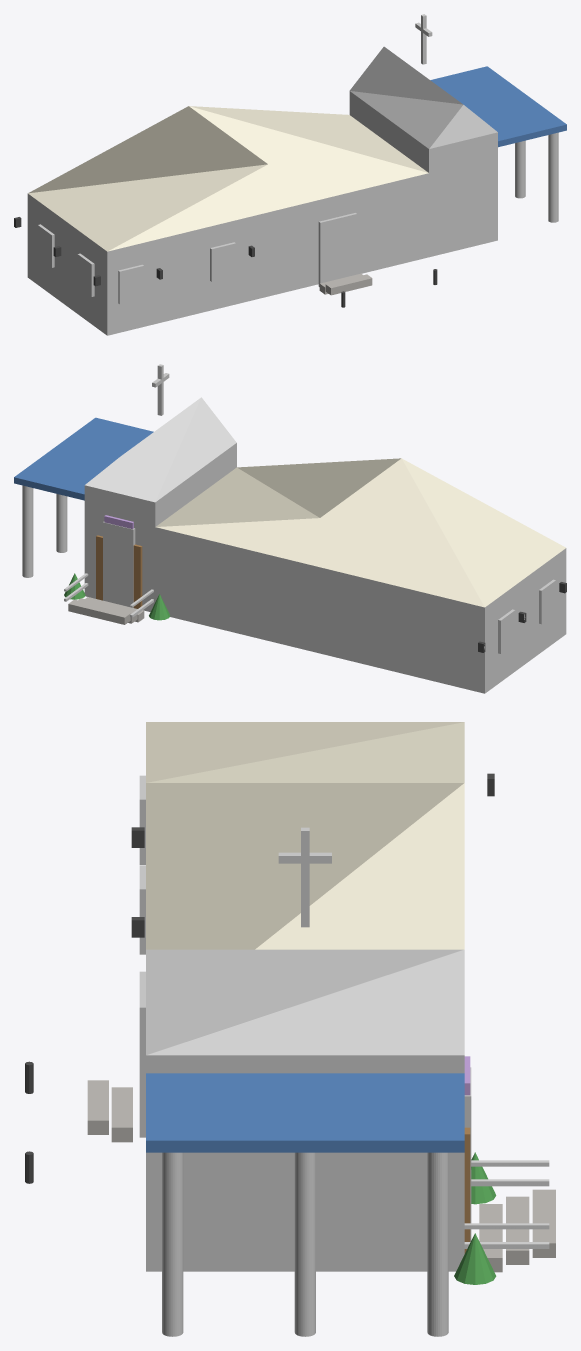
The model's file is Auditorium.glb.
The picture shows the model from 3 angles, top to bottom: view 1: azimuth 30°, elevation 25°; view 2: azimuth 150°, elevation 25°; view 3: azimuth 270°, elevation 25°; orthographic projection. The views are drawn at different scales.
Parts seen in each view (by area): view 1: Hall_Roof, Hall_Body, Entrance_Body, Entrance_Roof, Portico_Roof, SideDoor_Frame, Column_-2.5, WinFrame_F0, WinFrame_F1, WinFrame_L1, Column_0, WinFrame_L2 (+1 smaller); view 2: Hall_Roof, Hall_Body, Entrance_Roof, Entrance_Body, Portico_Roof, DoorFrame, Column_2.5, Step_Main2, Column_0, WinFrame_L2, WinFrame_L1, MainDoor_L (+1 smaller); view 3: Hall_Roof, Entrance_Body, Entrance_Roof, Portico_Roof, Column_2.5, Column_-2.5, Column_0, Step_Main2, Step_Main1, Pot_1, Step_Side0, Step_Side1 (+4 smaller).
Part boxes in pixels (x1,y1,x2,y2): Hall_Roof: [28, 106, 428, 251]; Hall_Body: [27, 173, 428, 335]; Entrance_Body: [349, 91, 497, 257]; Entrance_Roof: [349, 46, 497, 148]; Portico_Roof: [430, 66, 566, 147]; SideDoor_Frame: [318, 213, 356, 286]; Column_-2.5: [548, 132, 558, 222]; WinFrame_F0: [118, 264, 143, 304]; WinFrame_F1: [210, 242, 235, 281]; WinFrame_L1: [77, 253, 94, 296]; Column_0: [515, 140, 525, 198]; WinFrame_L2: [38, 224, 54, 267]; Hall_Roof: [155, 458, 565, 607]; Hall_Body: [155, 527, 566, 693]; Entrance_Roof: [85, 397, 236, 502]; Entrance_Body: [84, 443, 236, 611]; Portico_Roof: [14, 417, 153, 500]; DoorFrame: [103, 521, 135, 607]; Column_2.5: [22, 485, 33, 577]; Step_Main2: [68, 599, 130, 624]; Column_0: [56, 494, 67, 552]; WinFrame_L2: [498, 609, 515, 653]; WinFrame_L1: [539, 579, 555, 624]; MainDoor_L: [133, 544, 142, 608]; Hall_Roof: [146, 722, 464, 949]; Entrance_Body: [146, 1055, 464, 1271]; Entrance_Roof: [146, 949, 464, 1055]; Portico_Roof: [146, 1073, 464, 1152]; Column_2.5: [427, 1152, 448, 1336]; Column_-2.5: [162, 1152, 183, 1336]; Column_0: [294, 1152, 315, 1336]; Step_Main2: [532, 1189, 555, 1257]; Step_Main1: [506, 1196, 529, 1264]; Pot_1: [454, 1233, 496, 1284]; Step_Side0: [111, 1087, 132, 1142]; Step_Side1: [87, 1080, 108, 1134].
Bounding box in the file's own units: 20.27 × 9.5 × 10.
